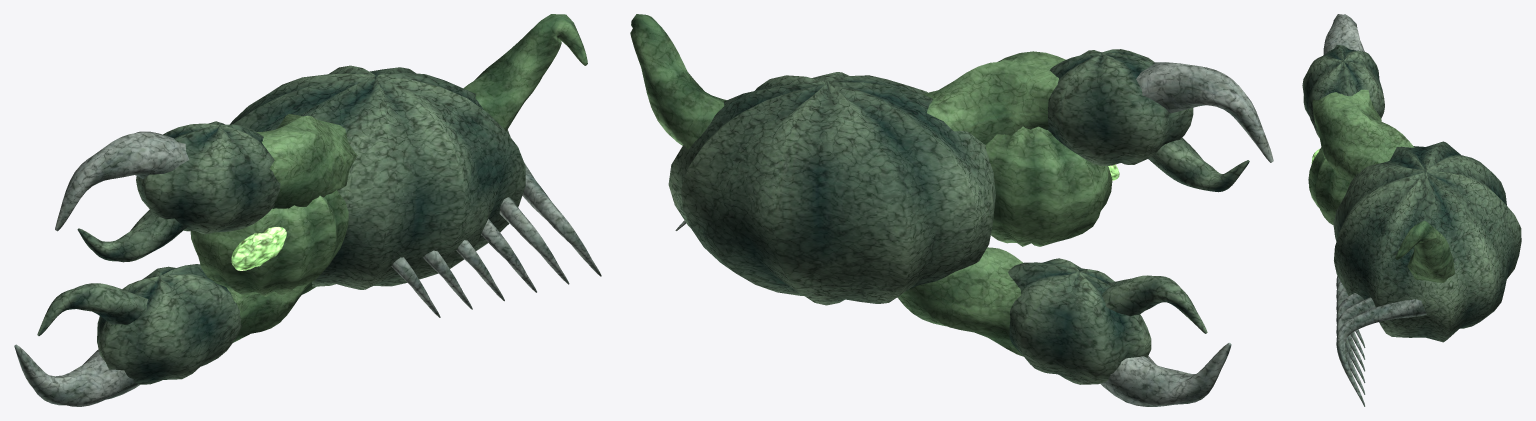
Rendered from pulse-binder.glb.
3 renders of one model, left to right at view 1: azimuth 30°, elevation 25°; view 2: azimuth 150°, elevation 25°; view 3: azimuth 270°, elevation 25°, orthographic. The views are drawn at different scales.
Parts seen in each view (by area): view 1: pulse-binder_carapace, pulse-binder_membrane, pulse-binder_rib, pulse-binder_signal; view 2: pulse-binder_carapace, pulse-binder_membrane, pulse-binder_rib; view 3: pulse-binder_carapace, pulse-binder_membrane, pulse-binder_rib.
Boxes of the visible parts, x1,y1,x2,y2 form: pulse-binder_carapace: (37,65,525,384); pulse-binder_membrane: (190,14,587,342); pulse-binder_rib: (14,131,601,406); pulse-binder_signal: (231,227,286,270); pulse-binder_carapace: (668,49,1249,384); pulse-binder_membrane: (630,14,1112,356); pulse-binder_rib: (675,62,1273,406); pulse-binder_carapace: (1302,45,1521,342); pulse-binder_membrane: (1308,89,1455,282); pulse-binder_rib: (1323,14,1426,406).
Bounding box in the file's own units: 4.07 × 2.03 × 1.77.
4 materials, 4 textured.
